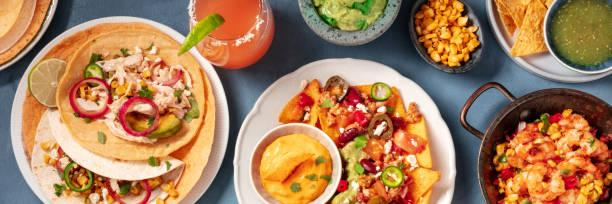Braised Crucian Carp: (14, 14, 230, 204), (233, 55, 455, 203), (464, 84, 612, 202), (484, 0, 608, 83)
